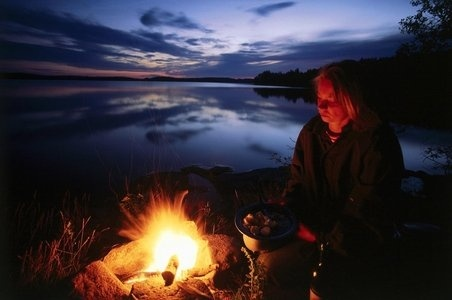fire: (129, 190, 209, 282)
